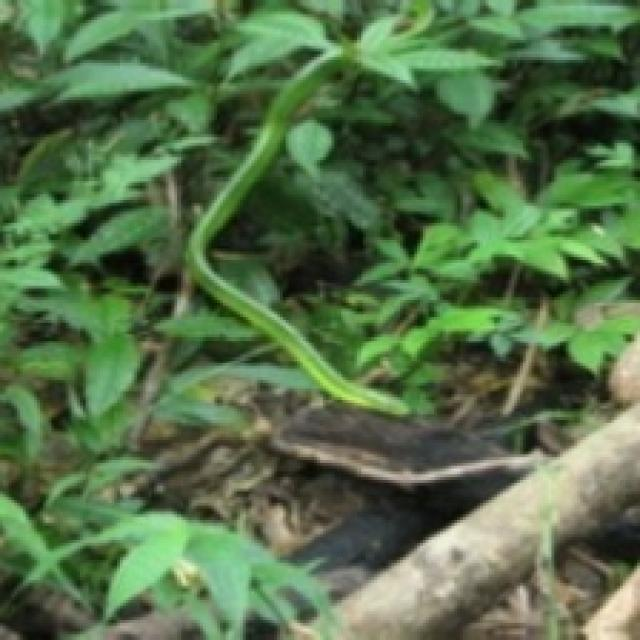red-tailed green ratsnake: (184, 49, 405, 414)
